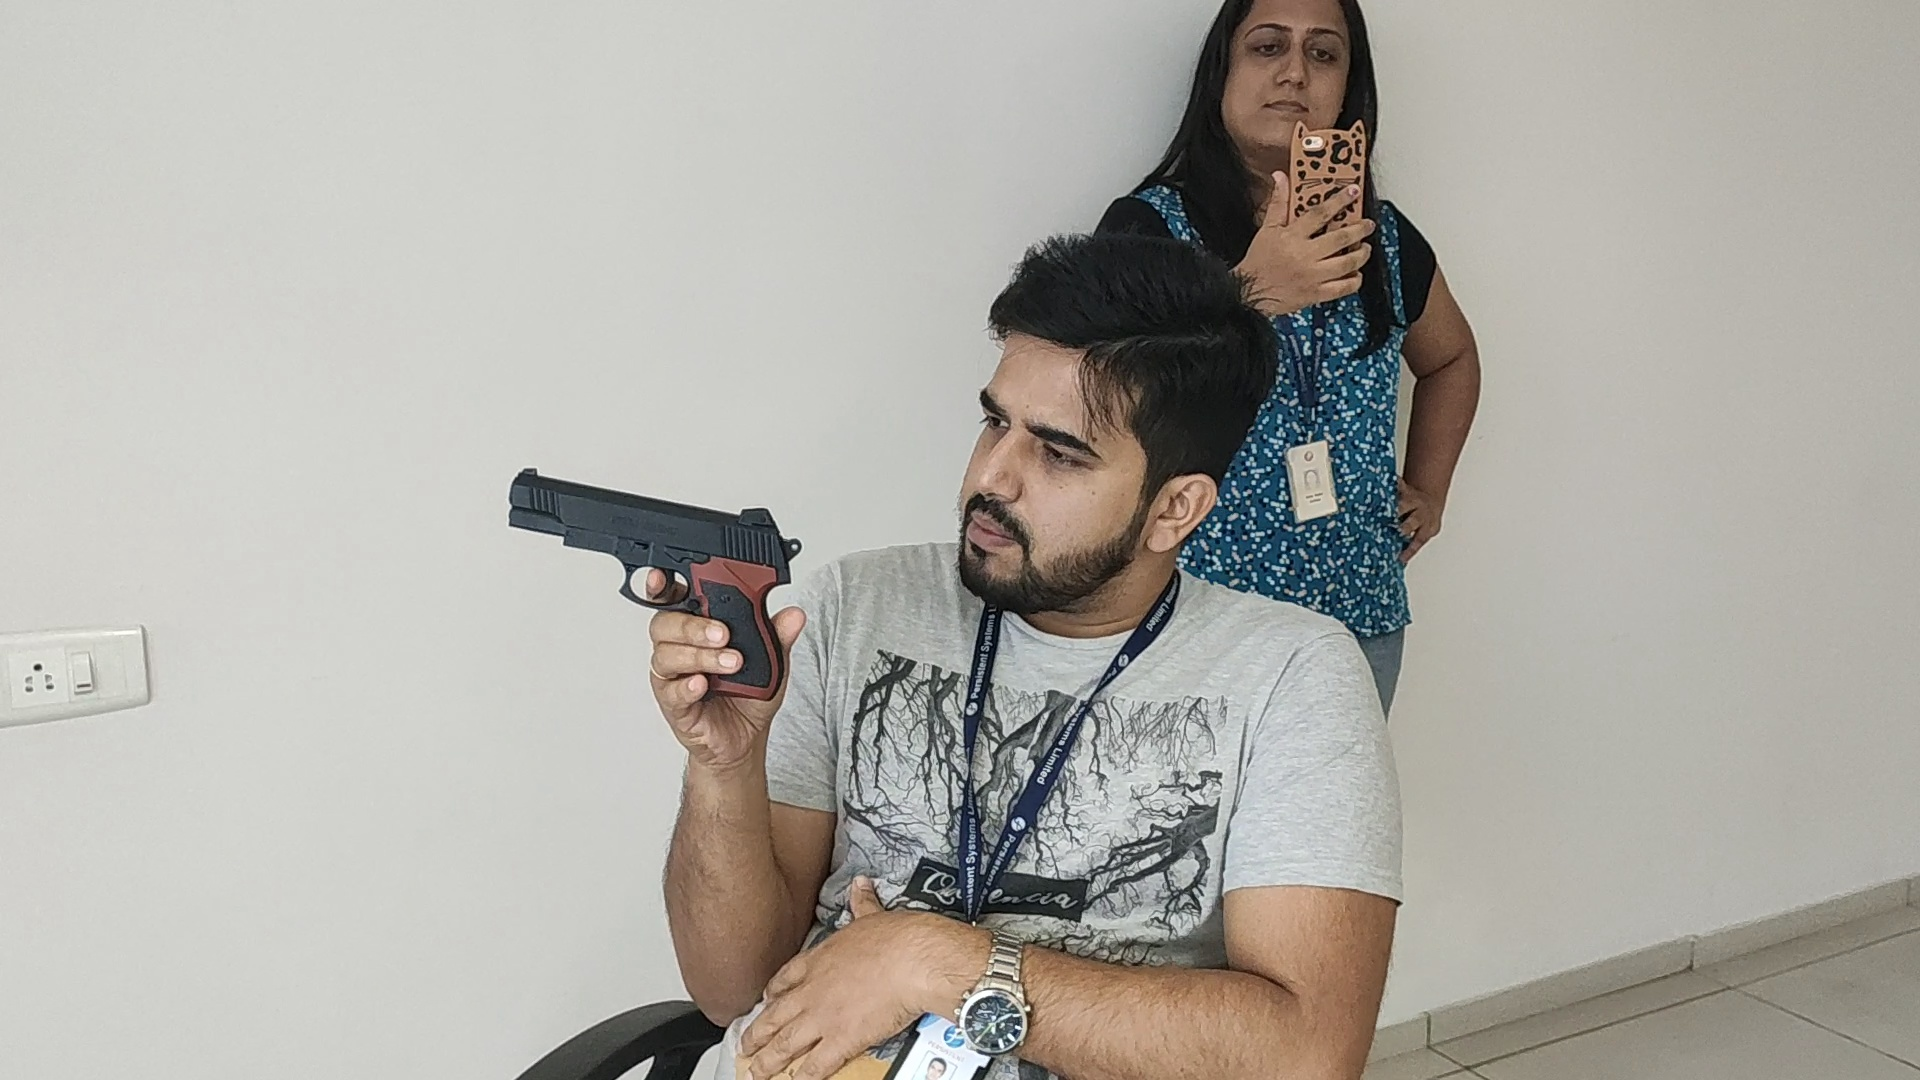gun: (506, 468, 803, 608)
